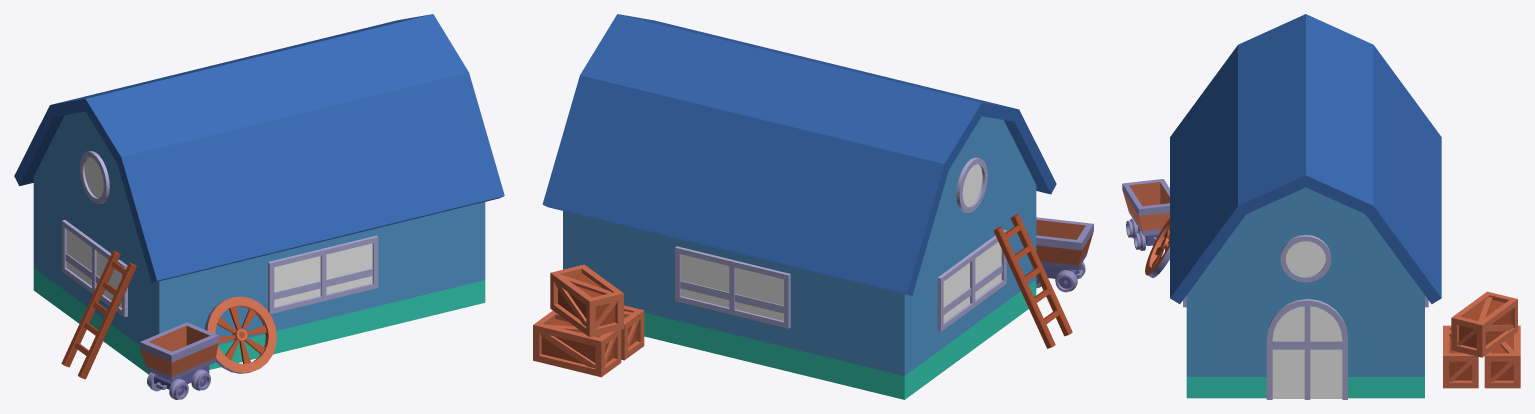
Rendered from house_blue.glb.
The picture shows the model from 3 angles, left to right: view 1: azimuth 30°, elevation 25°; view 2: azimuth 150°, elevation 25°; view 3: azimuth 270°, elevation 25°; orthographic projection. The views are drawn at different scales.
Visible parts, largest first — view 1: mergedBlocks(Clone); view 2: mergedBlocks(Clone); view 3: mergedBlocks(Clone).
Part boxes in pixels (box(x1,y1,x2,y2)): mergedBlocks(Clone): box(14, 14, 504, 399); mergedBlocks(Clone): box(533, 14, 1093, 399); mergedBlocks(Clone): box(1122, 14, 1520, 399).
Bounding box in the file's own units: 3.62 × 2.12 × 3.34.
Materials: 1 (1 with a texture image).
